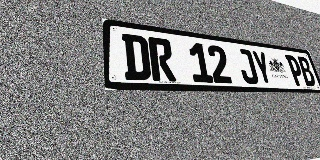1: (187, 42, 214, 83)
2: (206, 44, 232, 83)
B: (296, 56, 317, 86)
D: (122, 33, 152, 81)
J: (235, 48, 259, 84)
P: (285, 55, 306, 86)
R: (148, 37, 176, 81)
Y: (251, 50, 274, 85)
